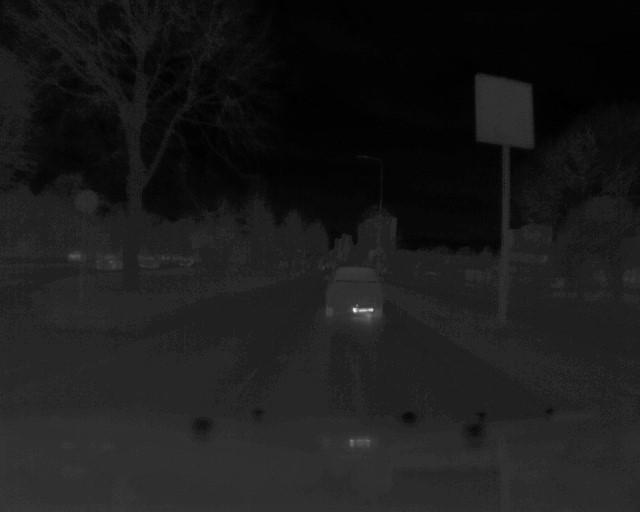car: (321, 264, 387, 325)
